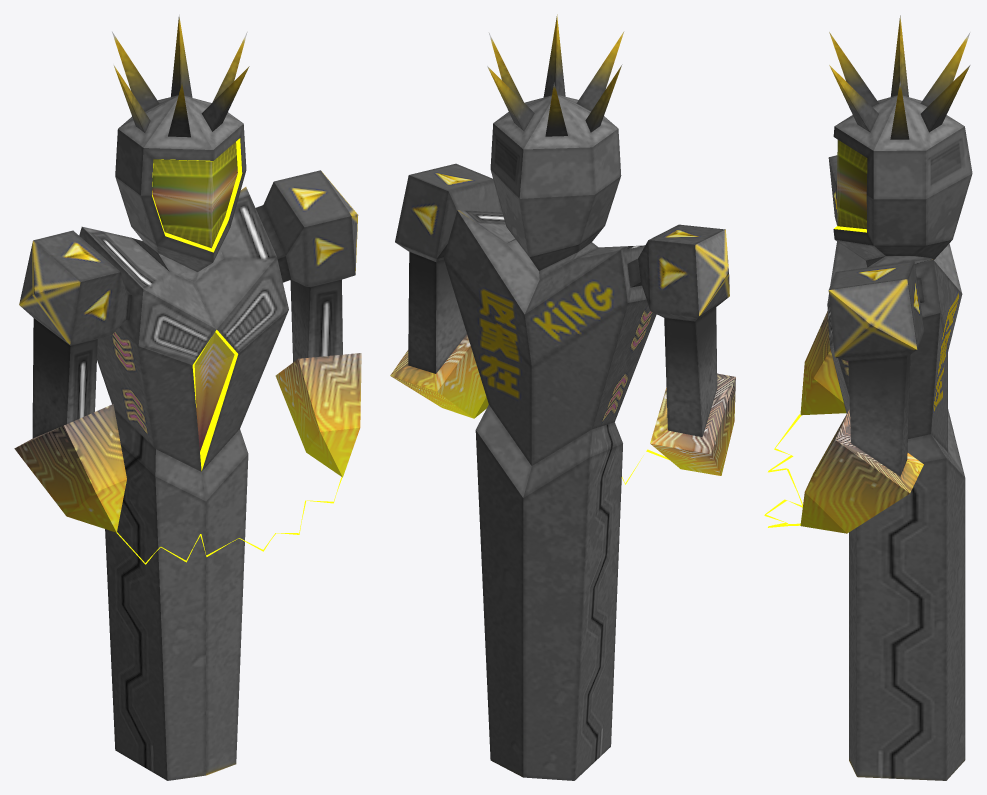
Rendered from Binance_King.glb.
The picture shows the model from 3 angles, left to right: view 1: azimuth 30°, elevation 25°; view 2: azimuth 150°, elevation 25°; view 3: azimuth 270°, elevation 25°; orthographic projection.
Visible parts, largest first — view 1: King; view 2: King; view 3: King.
Boxes of the visible parts, left/top/right/bottom form: King: left=14, top=14, right=361, bottom=780; King: left=390, top=14, right=735, bottom=780; King: left=764, top=15, right=972, bottom=780.
Bounding box in the file's own units: 0.9837 × 2.06 × 0.5436.
2 materials, 1 textured.
